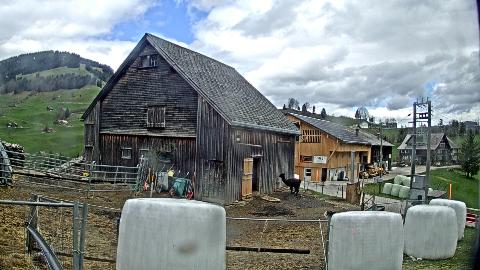sheep: (278, 172, 302, 196), (324, 210, 338, 220)
